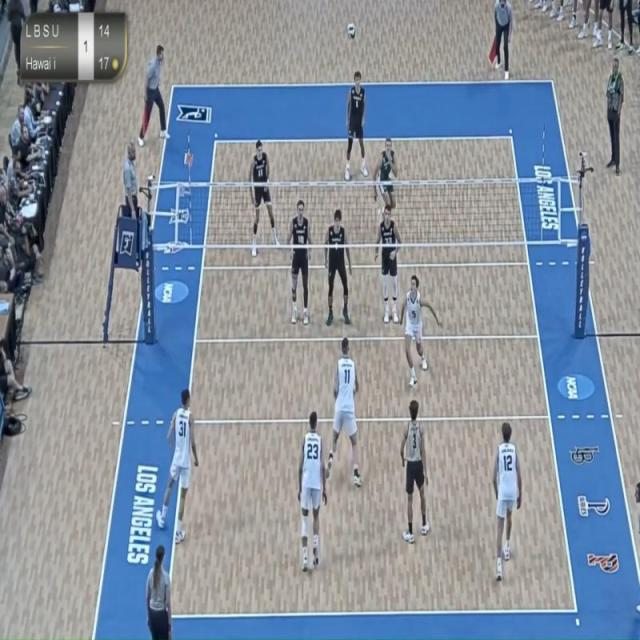volleyball: (345, 20, 358, 42)
